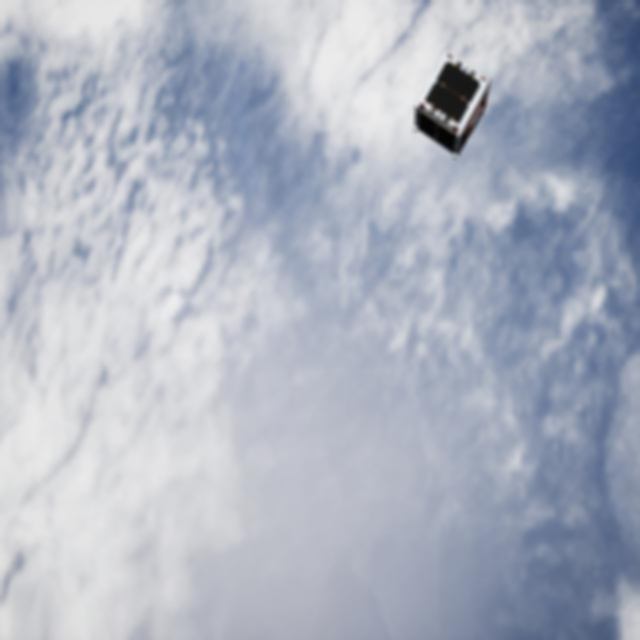satellite: (404, 58, 496, 166)
